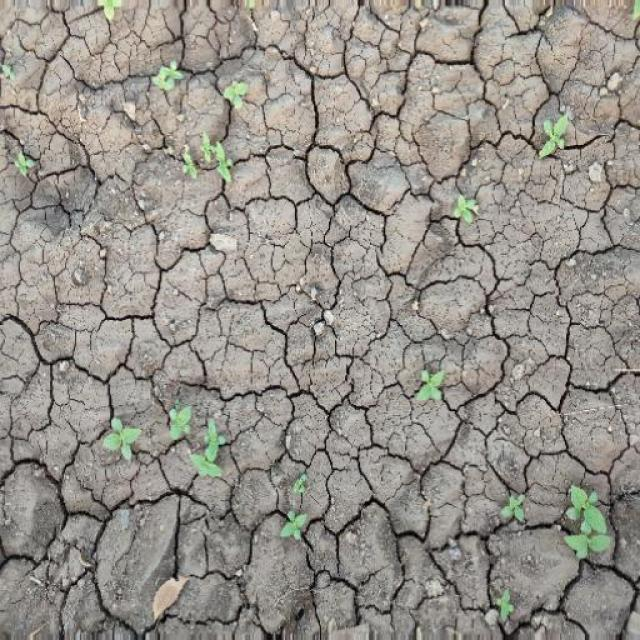crop: (558, 477, 620, 568), (165, 408, 226, 480), (169, 135, 239, 179), (100, 409, 141, 465), (1, 141, 45, 185), (538, 115, 578, 161), (216, 75, 255, 113), (275, 510, 315, 539), (410, 370, 448, 400), (148, 64, 188, 92)
